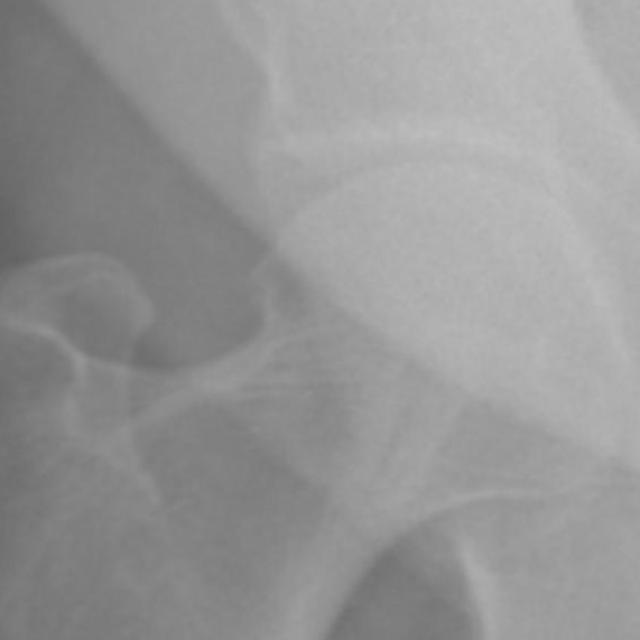Fitted_femural_head: (380, 162, 432, 380)
